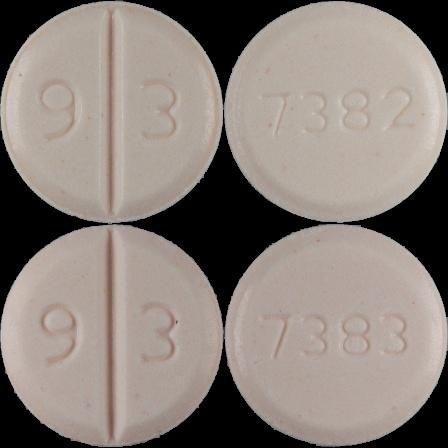21695-719: (0, 0, 224, 224)
